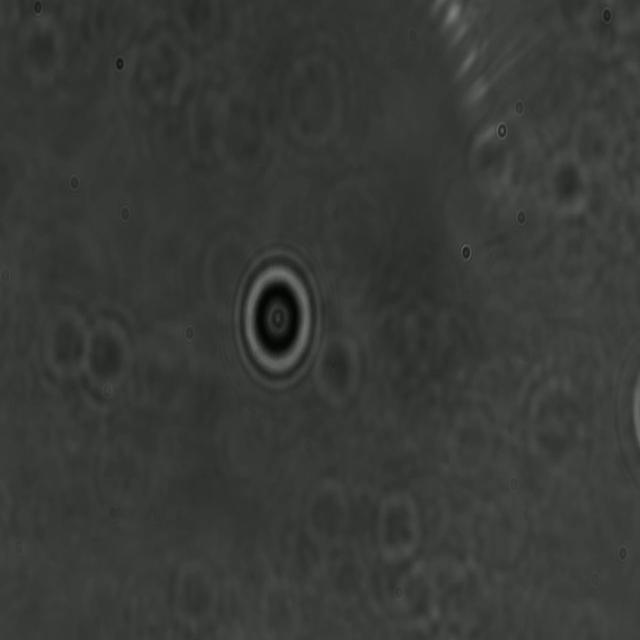LCELL: (231, 244, 323, 397)
